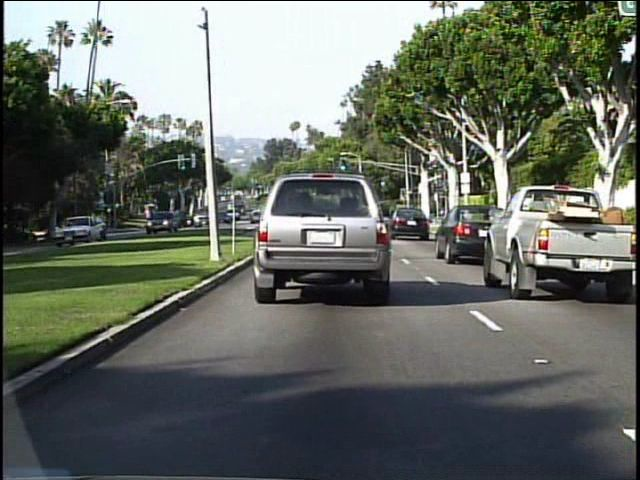person: (69, 213, 83, 236)
